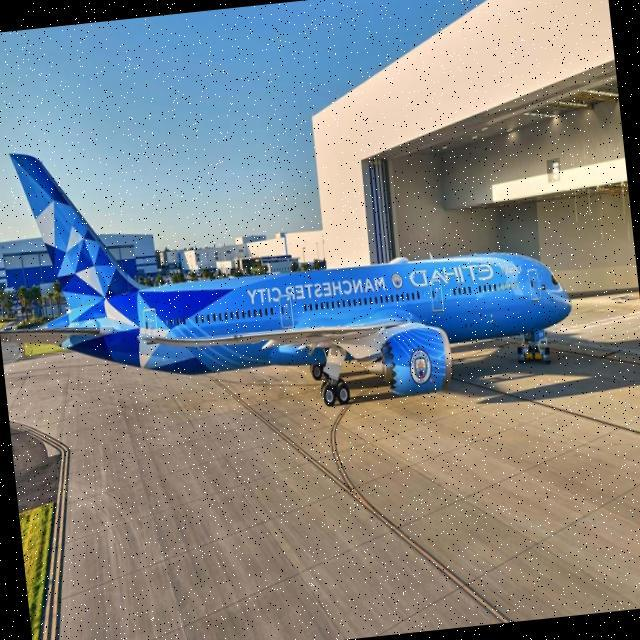Etihad Airways: (408, 257, 522, 287)
